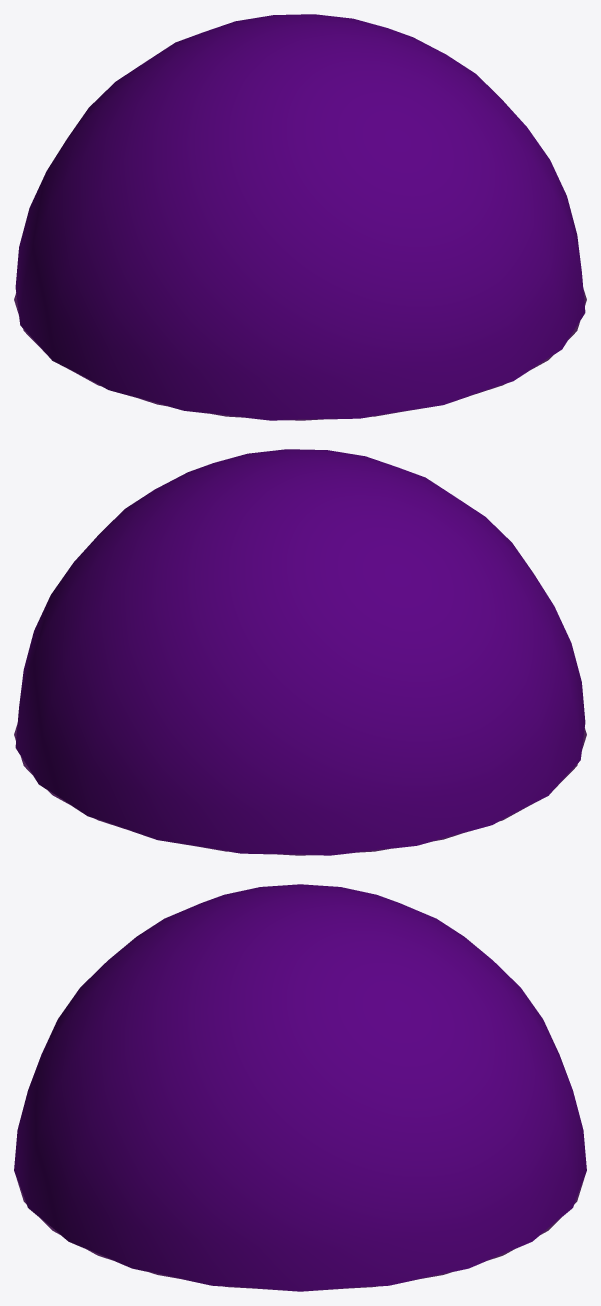
File: PoisonArea.fbx
3 views of the same model, one above another, from view 1: azimuth 30°, elevation 25°; view 2: azimuth 150°, elevation 25°; view 3: azimuth 270°, elevation 25° (orthographic).
Visible parts, largest first — view 1: polySurface1; view 2: polySurface1; view 3: polySurface1.
Part boxes in pixels (x1,y1,x2,y2): polySurface1: (14,14,586,420); polySurface1: (14,449,586,855); polySurface1: (14,884,586,1291).
Bounding box in the file's own units: 20 × 10 × 20.
Materials: 2 (1 with a texture image).
